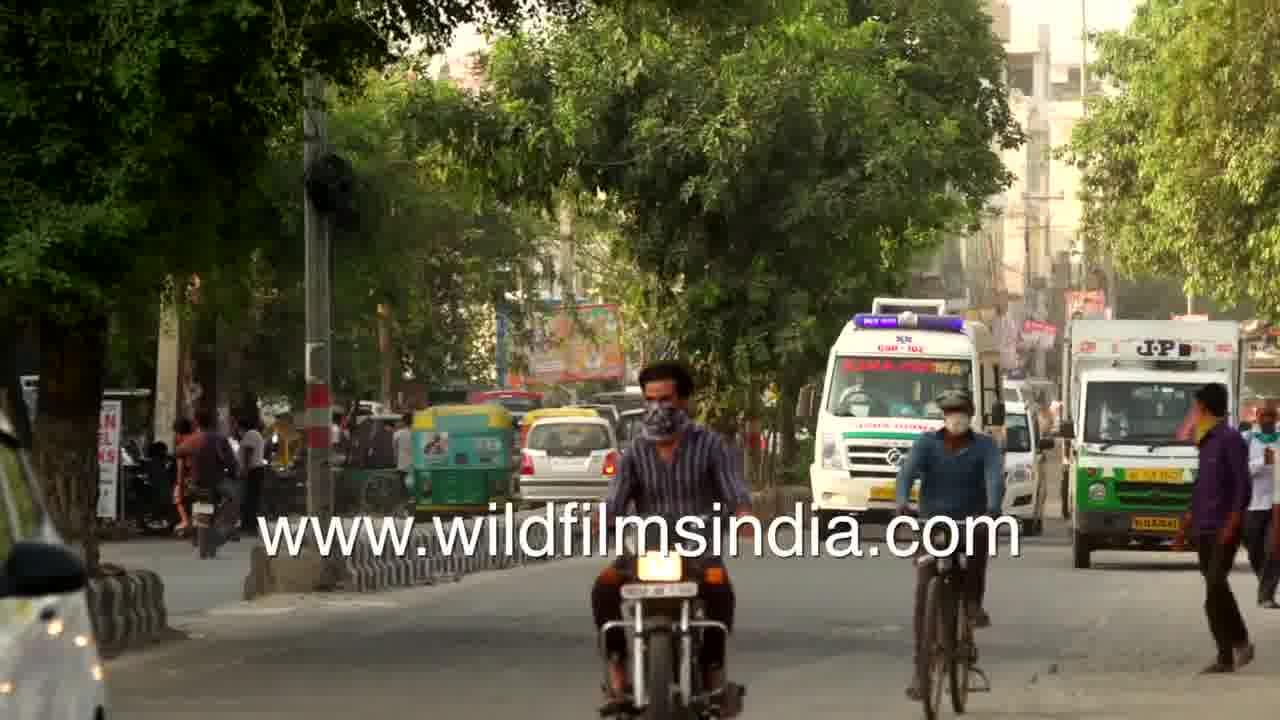AMBULANCE: (804, 292, 997, 521)
